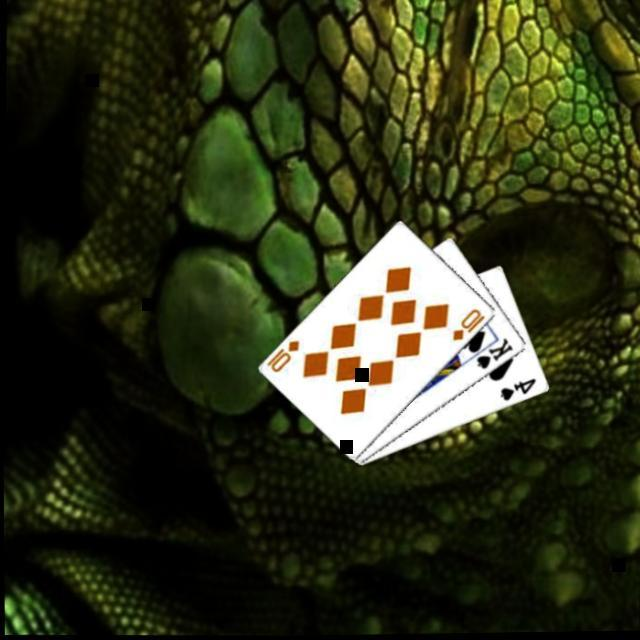10D: (449, 308, 488, 347), (264, 339, 302, 378)
4S: (498, 378, 538, 407)
KS: (473, 338, 516, 376)
